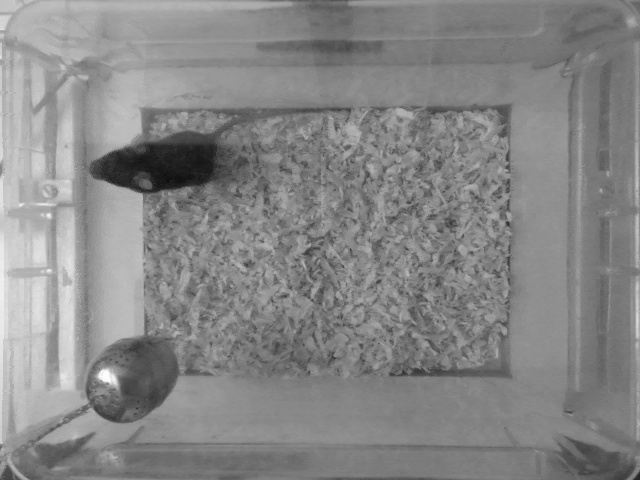mice: (88, 103, 350, 198)
